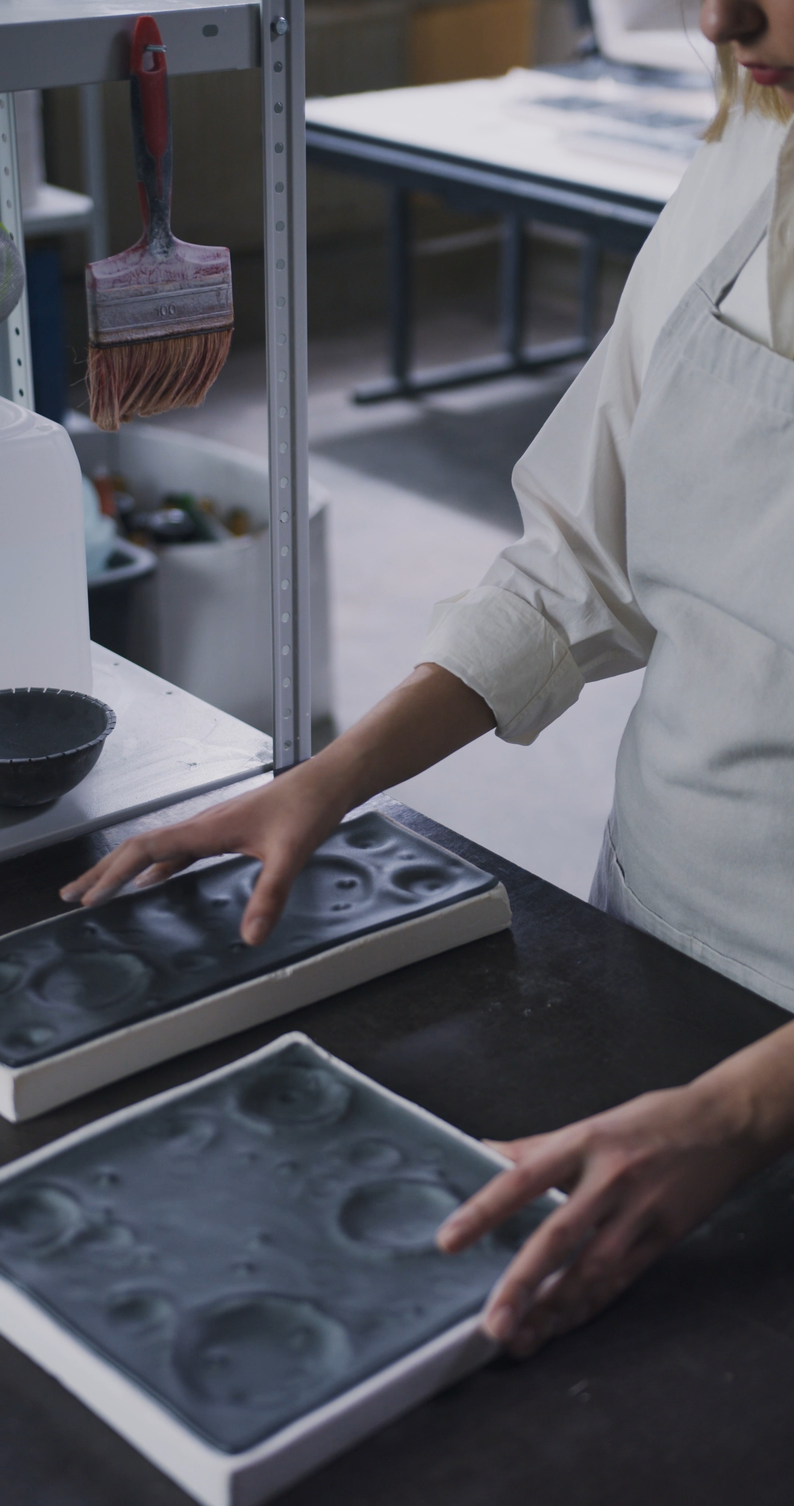No-gloves: (463, 1081, 730, 1356), (81, 802, 351, 1007)
